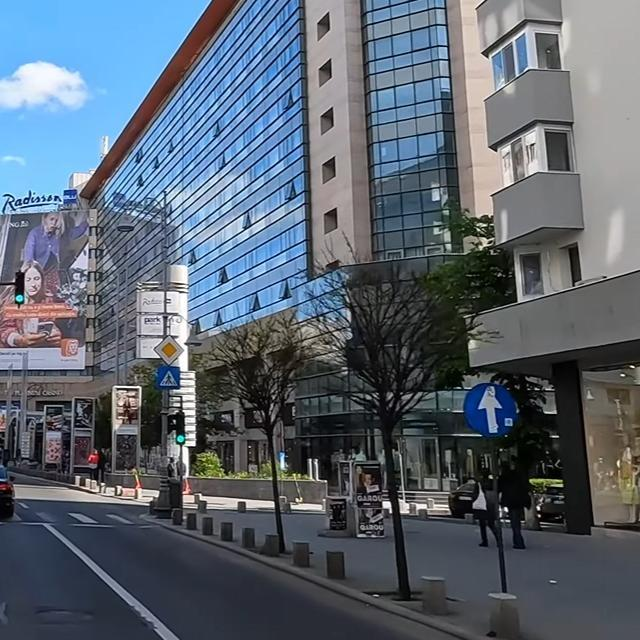info_crosswalk: (156, 365, 180, 388)
